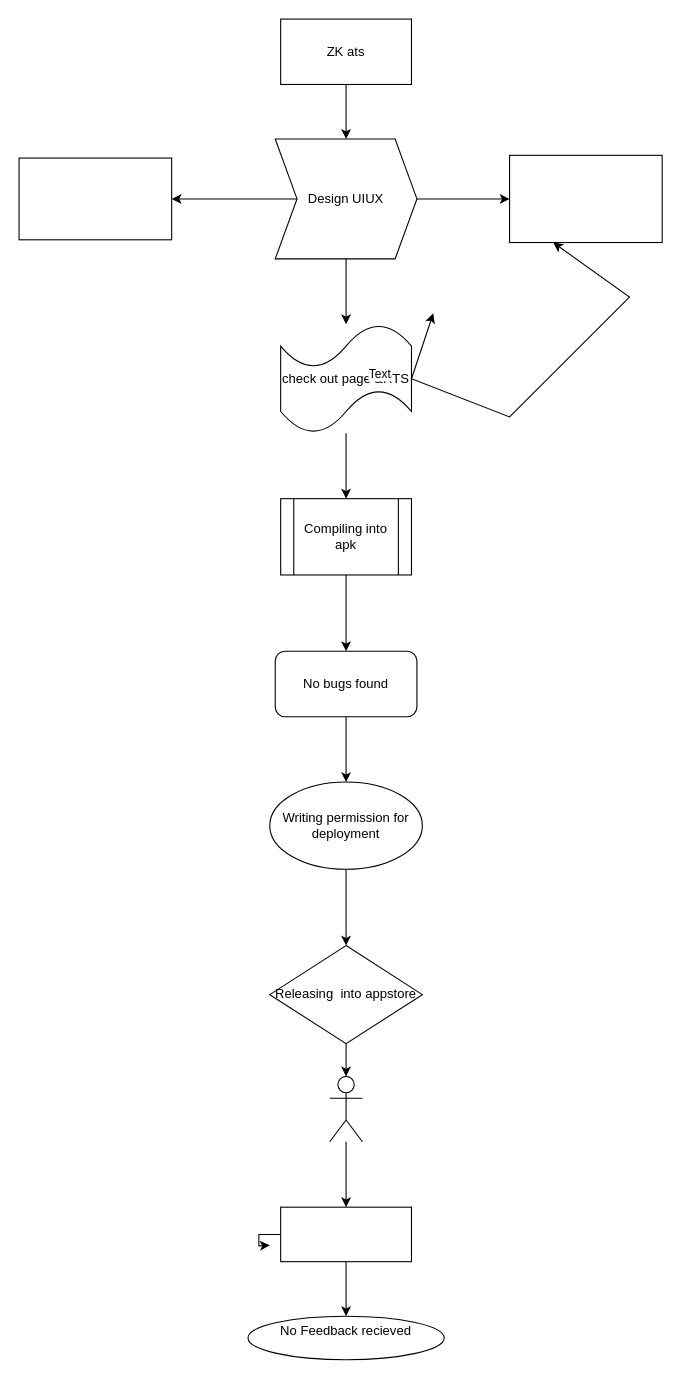
This 681x1379 diagram has some shape labels left out. The shapes that lost their labels are listed below. From the top down, each one's box as (x1, y1, x2, y2) in pixels, then its label:
(18, 157, 172, 240): Customer sign up/sign in page
(508, 154, 662, 243): Listing of restaurants&their cusines
(329, 1075, 362, 1142): Actor
(280, 1206, 411, 1262): Customer using application
